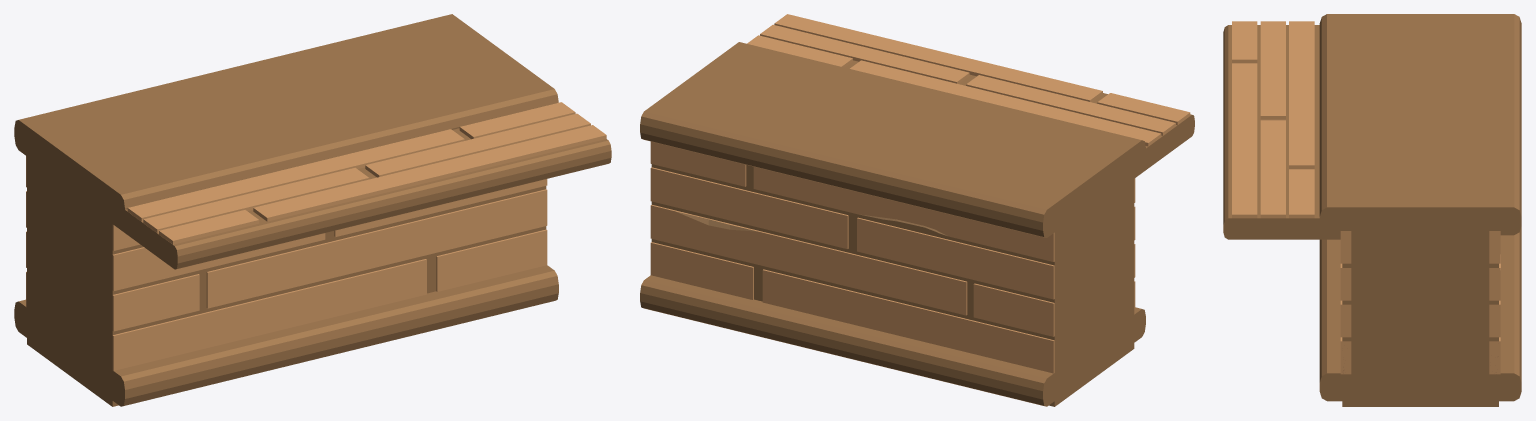
Rendered from Counter_Straight_2.fbx.
The picture shows the model from 3 angles, left to right: view 1: azimuth 30°, elevation 25°; view 2: azimuth 150°, elevation 25°; view 3: azimuth 270°, elevation 25°; orthographic projection. The views are drawn at different scales.
Visible parts, largest first — view 1: Environment_Counter_Straight_2; view 2: Environment_Counter_Straight_2; view 3: Environment_Counter_Straight_2.
Part boxes in pixels (x1,y1,x2,y2): Environment_Counter_Straight_2: (14, 14, 611, 406); Environment_Counter_Straight_2: (640, 14, 1194, 406); Environment_Counter_Straight_2: (1223, 14, 1521, 406).
Size of the model in its own units: 400 by 192 by 261.
